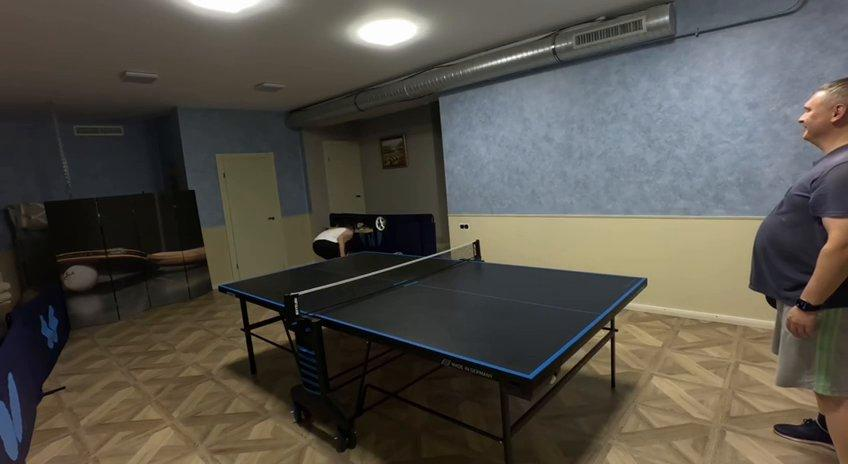Net: (285, 240, 482, 325)
Player1: (313, 226, 358, 258)
Player2: (750, 77, 847, 463)
Table: (224, 254, 646, 379)
